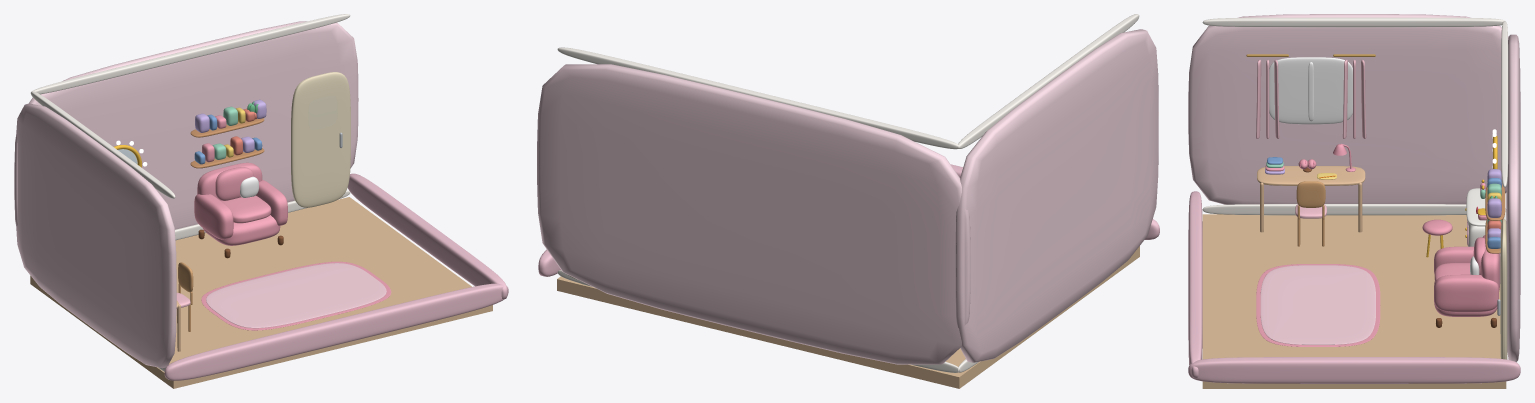
Rendered from casa_cuarto_ella.glb.
3 renders of one model, left to right at view 1: azimuth 30°, elevation 25°; view 2: azimuth 150°, elevation 25°; view 3: azimuth 270°, elevation 25°, orthographic. The views are drawn at different scales.
Visible parts, largest first — view 1: pared izquierda.004, pared fondo.004, piso.004, muro bajo frente.004, tapete.004, puerta.004, muro bajo derecha.004, cornisa fondo.004, brazo sillón.002, cornisa izquierda.004, borde tapete.004, base sillón.001 (+7 smaller); view 2: pared fondo.004, pared izquierda.004, piso.004, cornisa fondo.004, cornisa izquierda.004; view 3: pared izquierda.004, piso.004, tapete.004, muro bajo derecha.004, marco.002, pared fondo.004, cornisa izquierda.004, zócalo izquierdo.004, muro bajo frente.004, brazo sillón.003, tabla escritorio.001, cornisa fondo.004 (+16 smaller).
Boxes of the visible parts, x1=… form: pared izquierda.004: x1=16, y1=103, x2=176, y2=368; pared fondo.004: x1=14, y1=21, x2=358, y2=229; piso.004: x1=30, y1=197, x2=492, y2=388; muro bajo frente.004: x1=164, y1=283, x2=508, y2=380; tapete.004: x1=206, y1=263, x2=386, y2=328; puerta.004: x1=291, y1=72, x2=350, y2=207; muro bajo derecha.004: x1=347, y1=173, x2=507, y2=299; cornisa fondo.004: x1=30, y1=14, x2=350, y2=94; brazo sillón.002: x1=194, y1=194, x2=233, y2=239; cornisa izquierda.004: x1=31, y1=91, x2=175, y2=198; borde tapete.004: x1=201, y1=261, x2=391, y2=330; base sillón.001: x1=203, y1=215, x2=280, y2=245; pared fondo.004: x1=537, y1=64, x2=970, y2=364; pared izquierda.004: x1=955, y1=29, x2=1158, y2=362; piso.004: x1=557, y1=246, x2=1139, y2=388; cornisa fondo.004: x1=557, y1=47, x2=959, y2=149; cornisa izquierda.004: x1=957, y1=14, x2=1139, y2=148; pared izquierda.004: x1=1188, y1=14, x2=1520, y2=204; piso.004: x1=1202, y1=214, x2=1506, y2=388; tapete.004: x1=1260, y1=265, x2=1375, y2=344; muro bajo derecha.004: x1=1188, y1=357, x2=1520, y2=383; marco.002: x1=1269, y1=57, x2=1352, y2=124; pared fondo.004: x1=1506, y1=34, x2=1520, y2=362; cornisa izquierda.004: x1=1202, y1=17, x2=1504, y2=27; zócalo izquierdo.004: x1=1202, y1=204, x2=1506, y2=215; muro bajo frente.004: x1=1188, y1=191, x2=1202, y2=378; brazo sillón.003: x1=1434, y1=274, x2=1498, y2=312; tabla escritorio.001: x1=1257, y1=166, x2=1365, y2=185; cornisa fondo.004: x1=1501, y1=21, x2=1508, y2=187.
Bounding box in the file's own units: 5.8 × 3.15 × 4.6.
